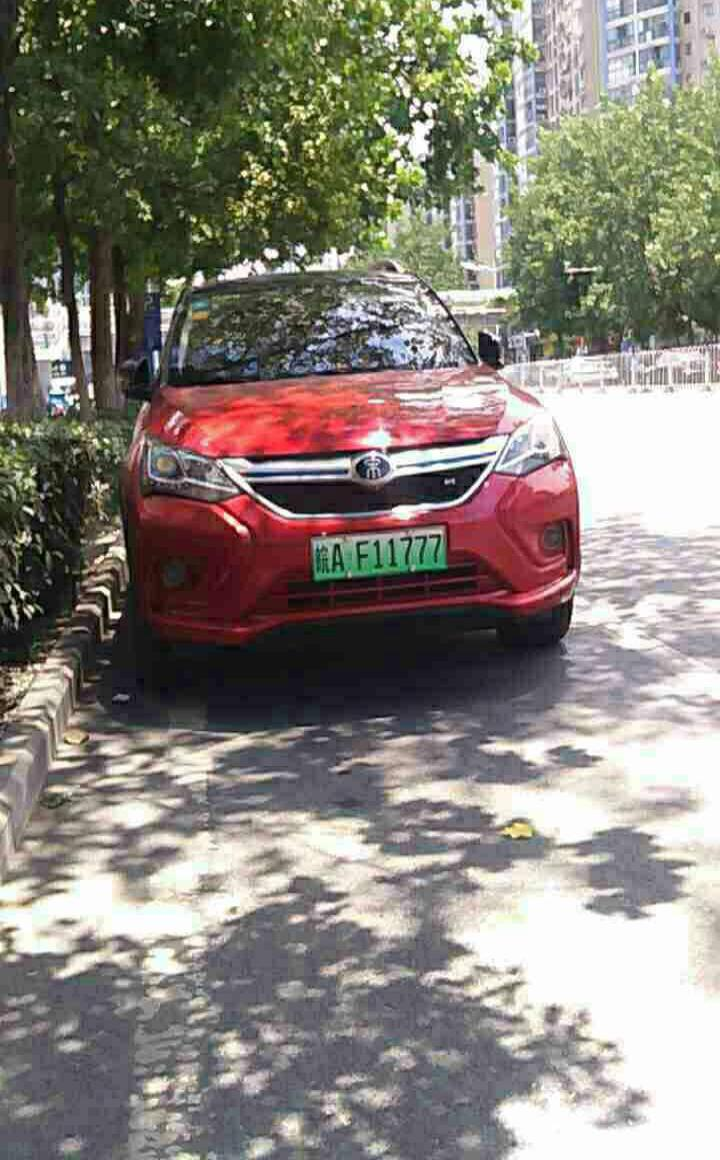car_id: (315, 524, 451, 583)
